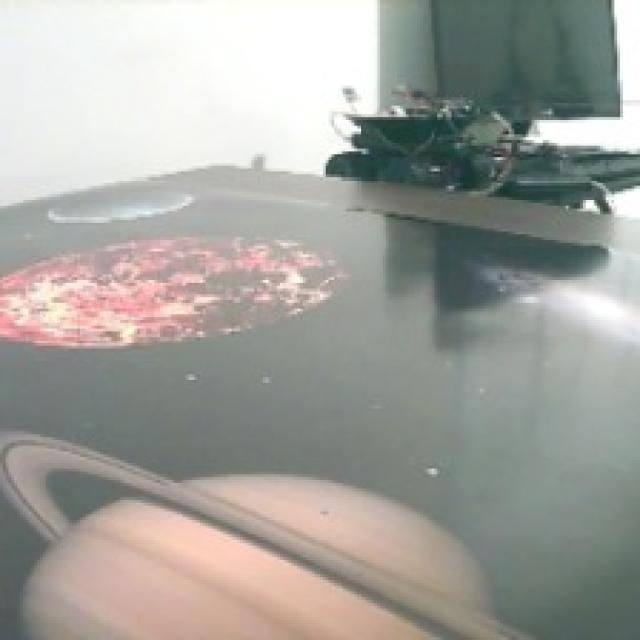Earth: (48, 181, 193, 223)
Galaxy: (481, 261, 640, 349)
Saturn: (0, 425, 543, 640)
Sun: (0, 235, 347, 354)
